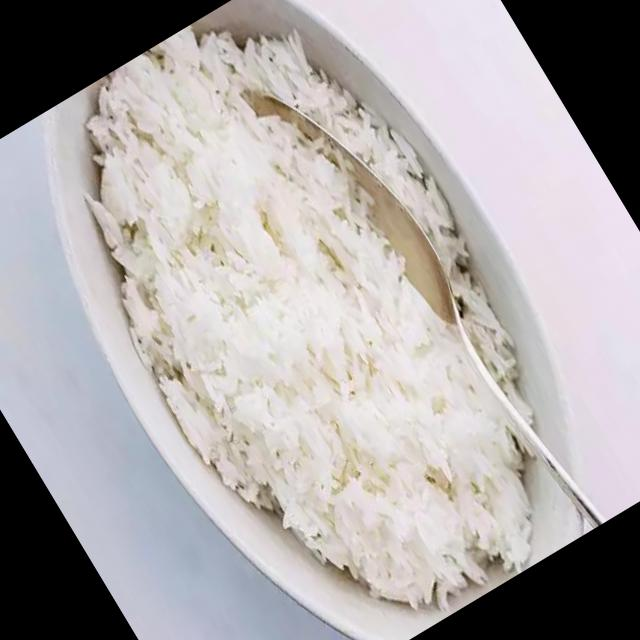rice: (91, 28, 535, 603)
